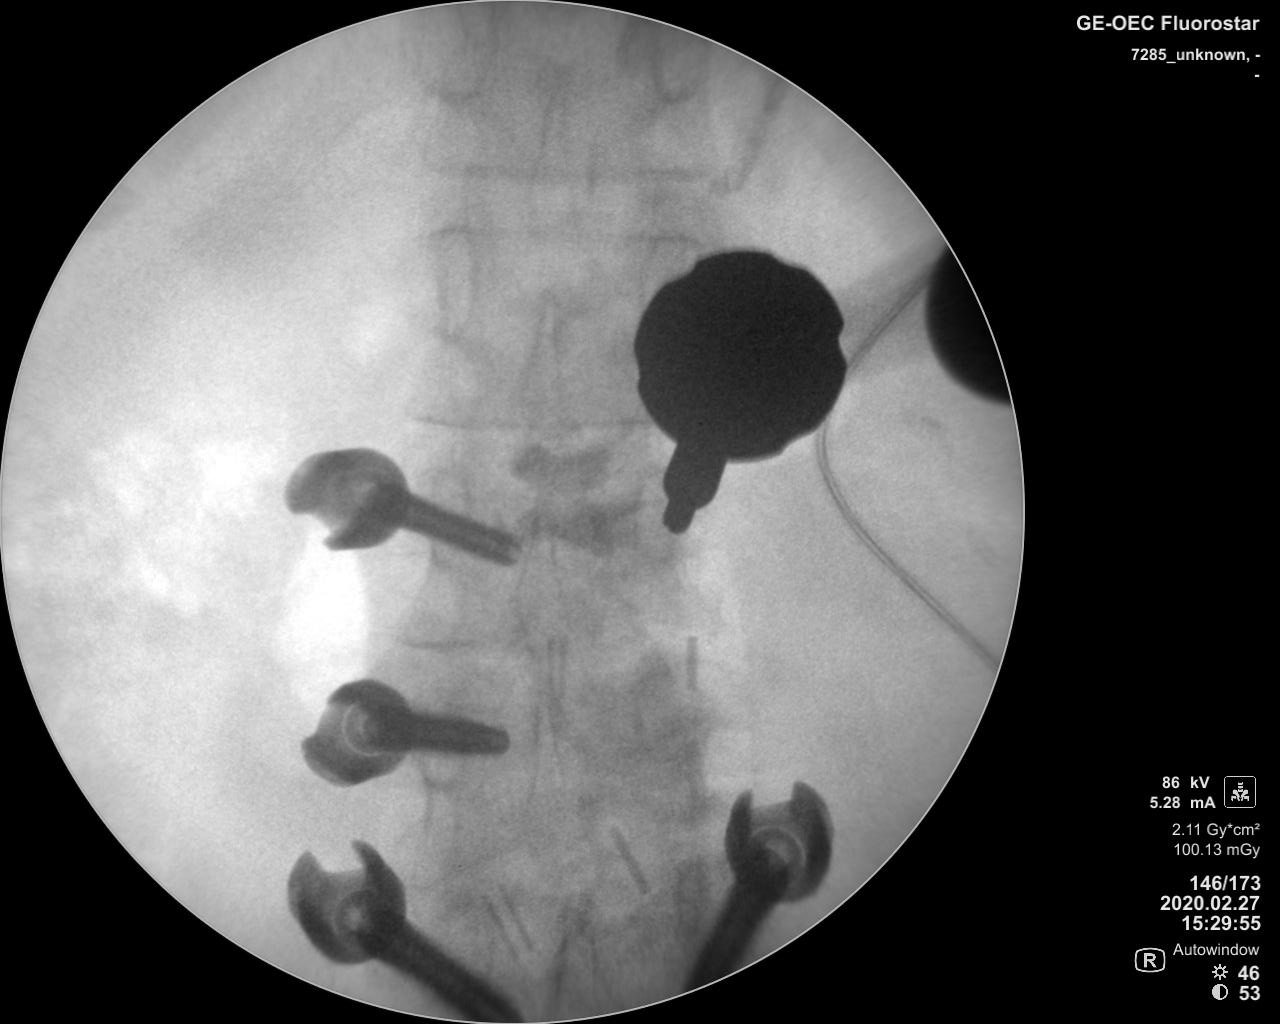eyes: (432, 6, 494, 106), (435, 226, 476, 338), (648, 32, 702, 106)
lilne: (419, 155, 721, 189), (418, 222, 706, 251), (402, 408, 651, 434)
nose: (523, 63, 580, 245), (513, 279, 569, 434), (514, 487, 564, 655)
